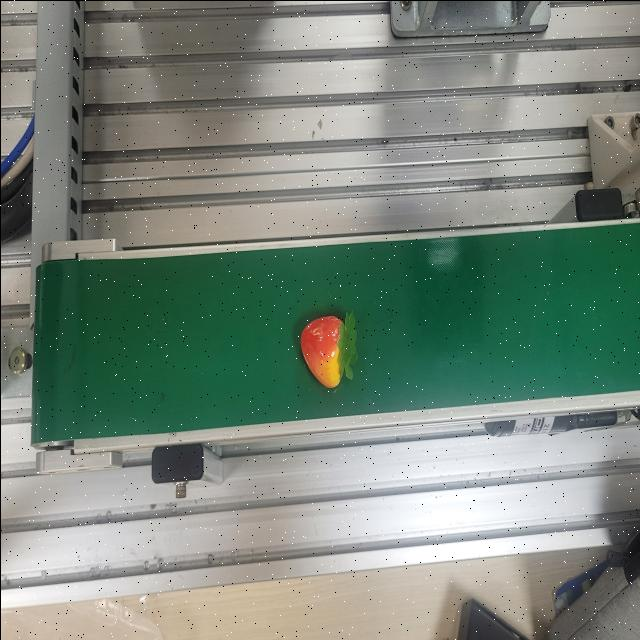Small Unripe Strawberry: (298, 309, 358, 392)
